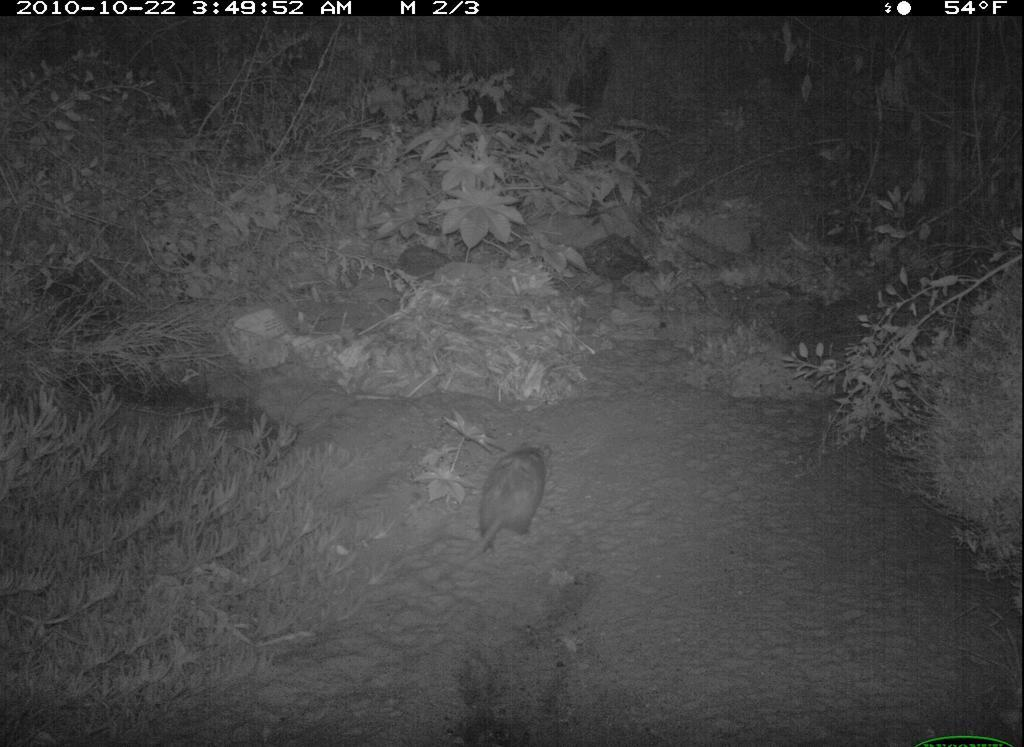opossum: (454, 433, 565, 550)
